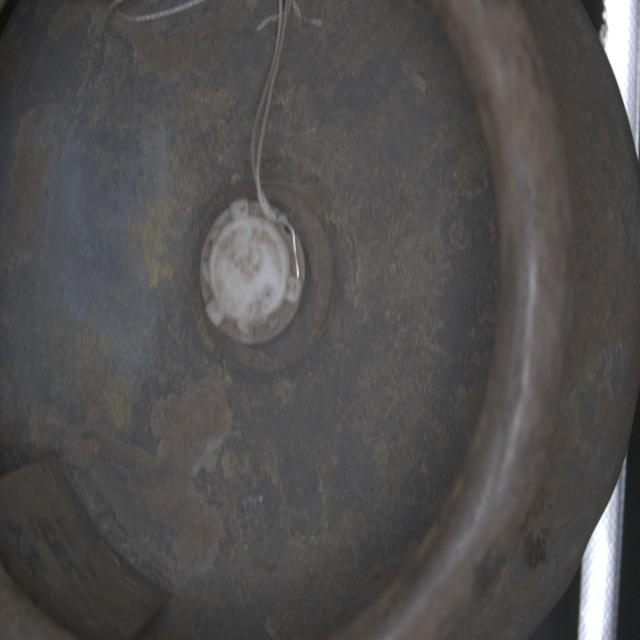Cap: (200, 197, 305, 346)
